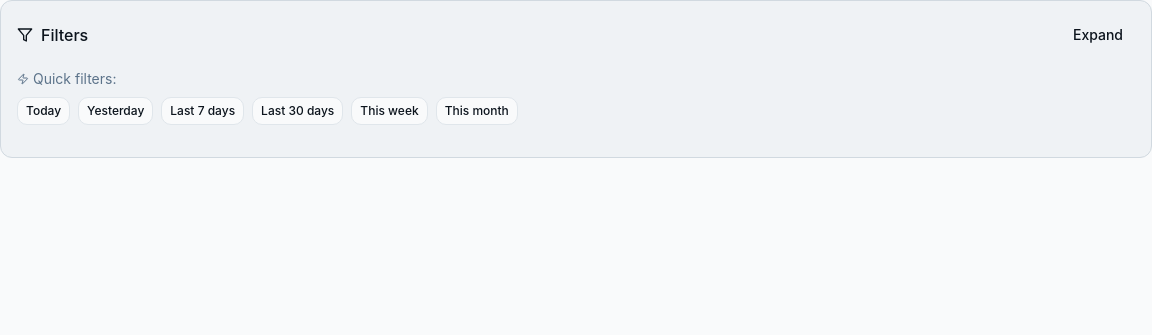
Test: FilterBar › expand/collapse functionality › should collapse when collapse button is clicked
What coordinates should you click on to do the following:
click the button "Expand"
I would click on:
 (1098, 35)
Its box is [1061, 17, 1135, 53].
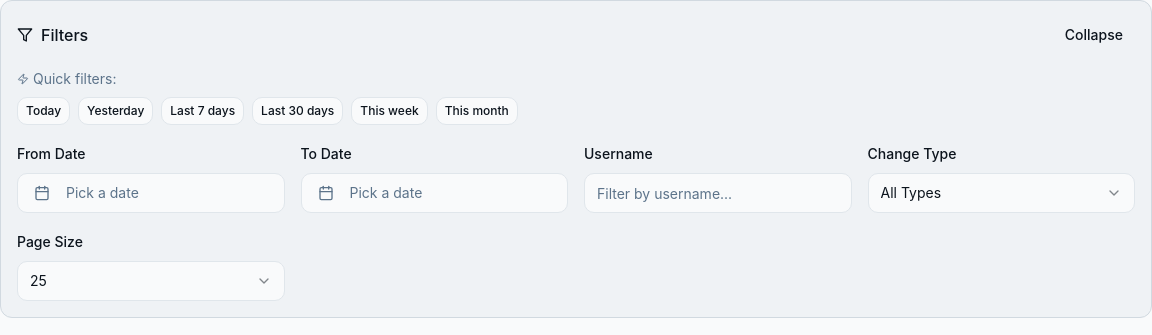
What coordinates should you click on to do the following:
click the button "Collapse"
I would click on:
 (1094, 35)
Its box is [1053, 17, 1135, 53].
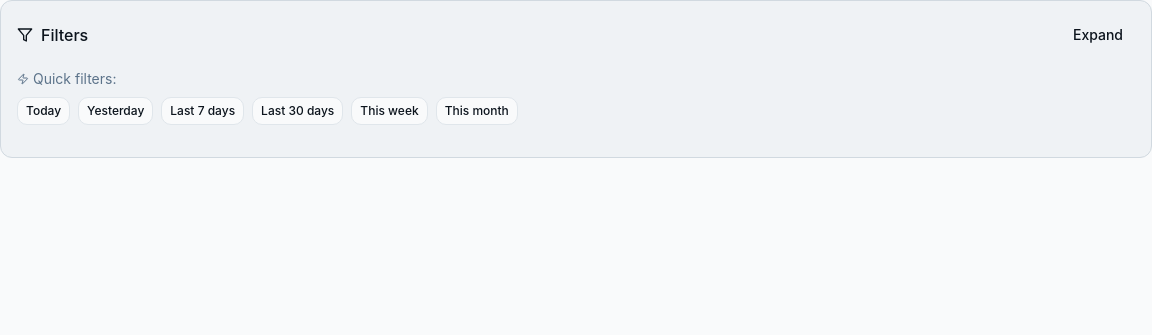
Result: the button "Expand" is shown at [1061, 17, 1135, 53]
Result: the text "From Date" is gone
